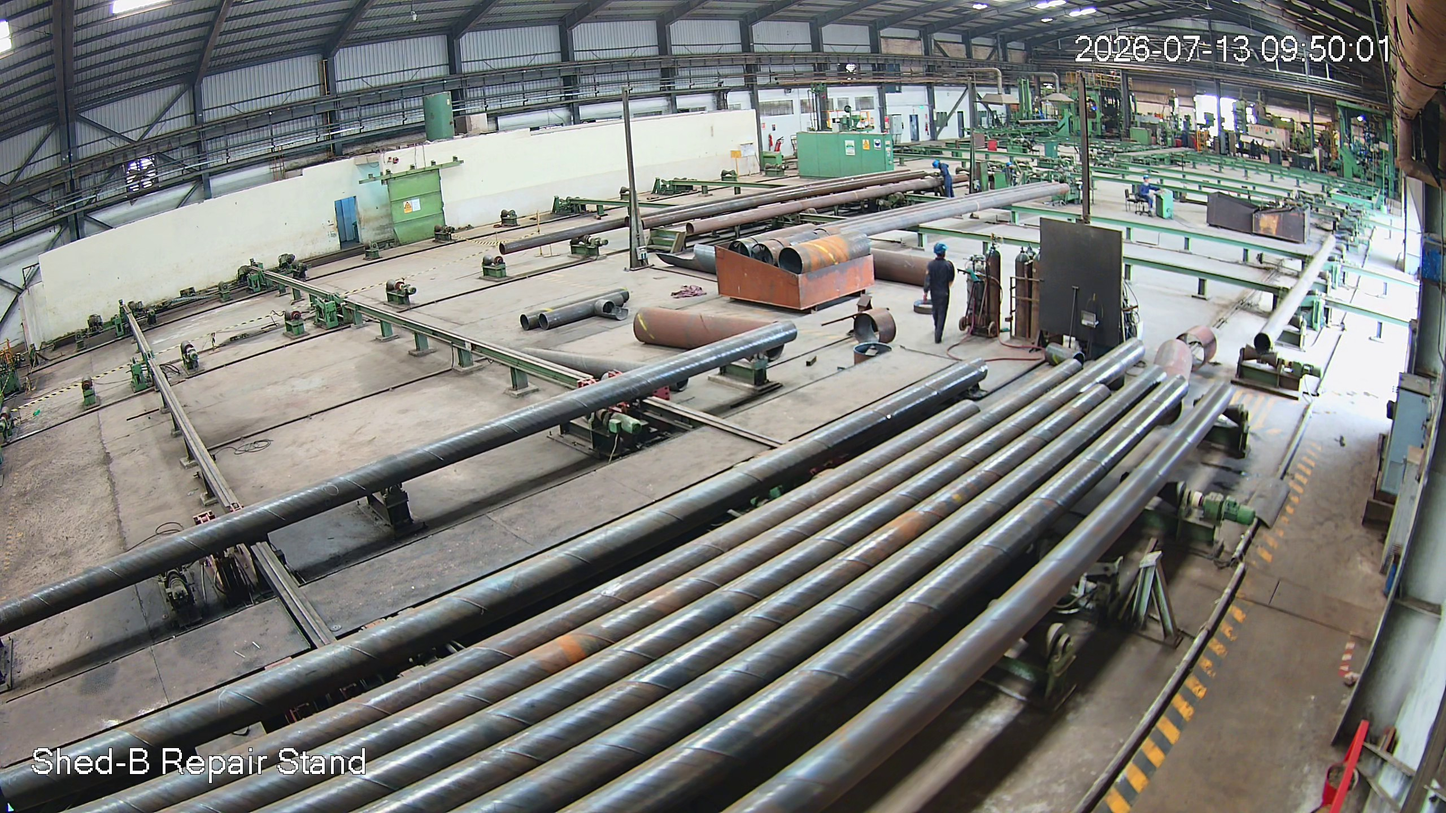Helmet: (931, 242, 948, 260)
Person: (922, 243, 953, 345)
